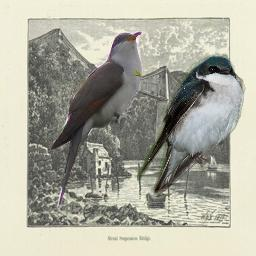Cuckoo: (49, 31, 143, 211)
Swallow: (137, 51, 247, 196)
